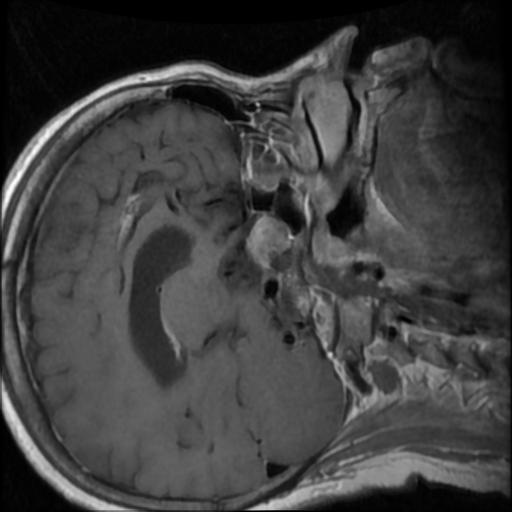pituitary tumour: (243, 215, 292, 269)
